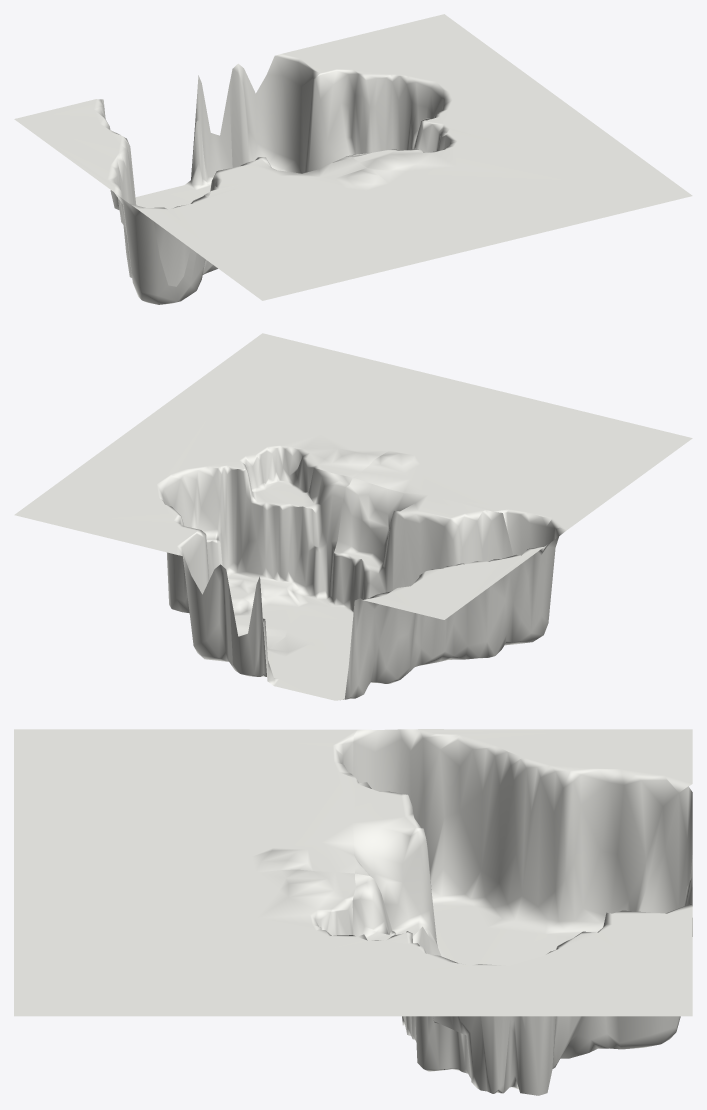
File: SM_EN_Landscape_01.fbx
3 views of the same model, one above another, from view 1: azimuth 30°, elevation 25°; view 2: azimuth 150°, elevation 25°; view 3: azimuth 270°, elevation 25° (orthographic). The views are drawn at different scales.
Visible parts, largest first — view 1: Lvl_01_Diorama_Landscape_o1; view 2: Lvl_01_Diorama_Landscape_o1; view 3: Lvl_01_Diorama_Landscape_o1.
Boxes of the visible parts, x1,y1,x2,y2 form: Lvl_01_Diorama_Landscape_o1: (14, 14, 692, 304); Lvl_01_Diorama_Landscape_o1: (14, 333, 692, 700); Lvl_01_Diorama_Landscape_o1: (14, 729, 692, 1095).
Size of the model in its own units: 12605 by 12607 by 3232.
1 material, 1 textured.
